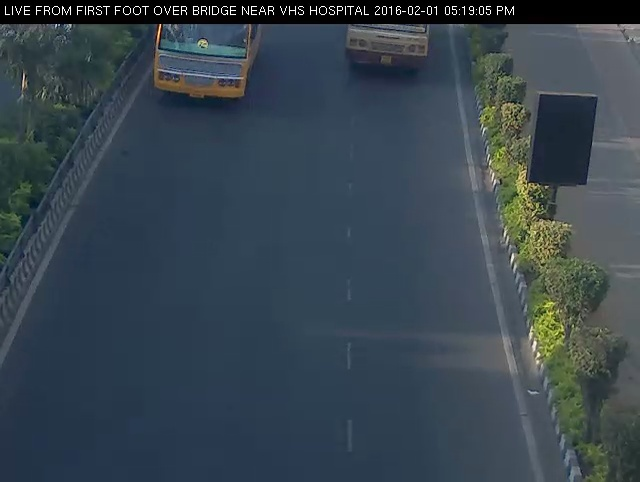Bus: (145, 21, 275, 110), (337, 21, 441, 81)
